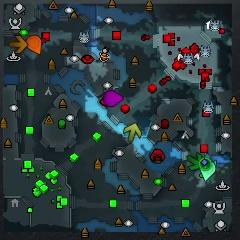p2: (201, 162, 215, 181)
p3: (104, 91, 124, 107)
p5: (26, 35, 43, 55)
x2: (124, 123, 142, 142)
x4: (187, 153, 202, 171)
x5: (10, 35, 27, 54)
